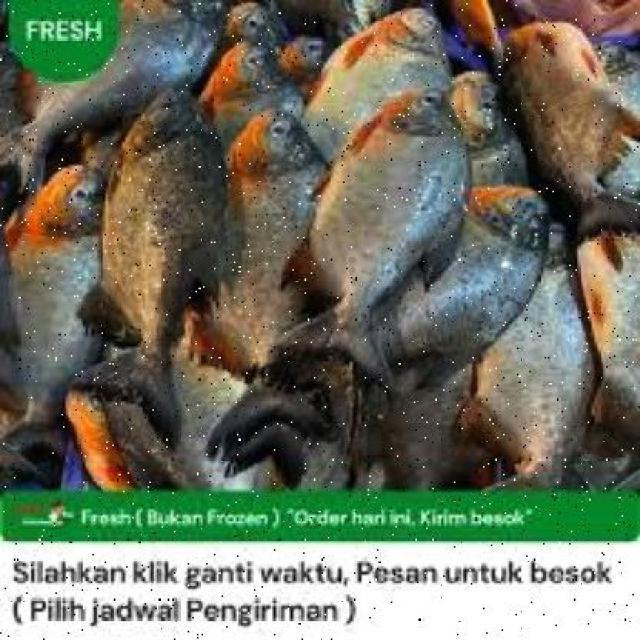ikan-pacu: (284, 85, 472, 358), (98, 90, 218, 344), (208, 108, 322, 366), (394, 187, 556, 364), (0, 165, 105, 412), (292, 5, 451, 133)
